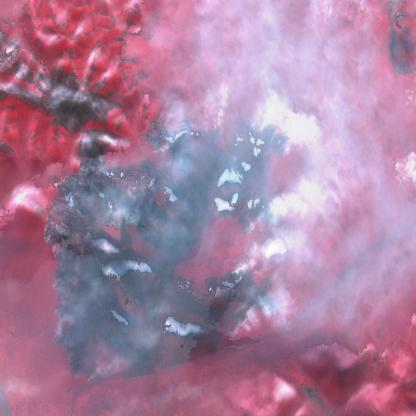fire: (29, 111, 307, 394)
